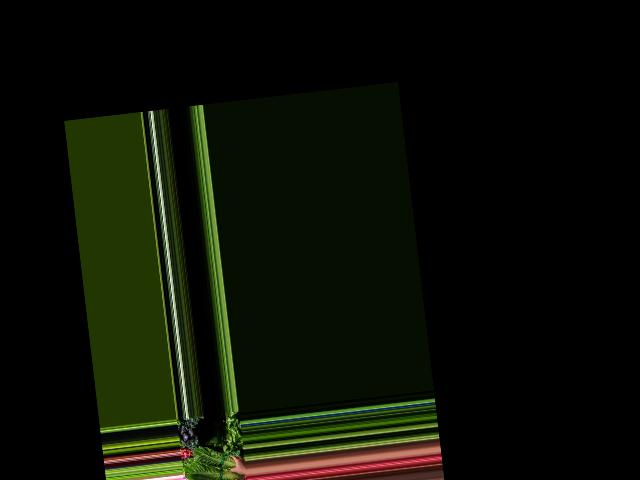lettuce: (184, 440, 248, 480)
